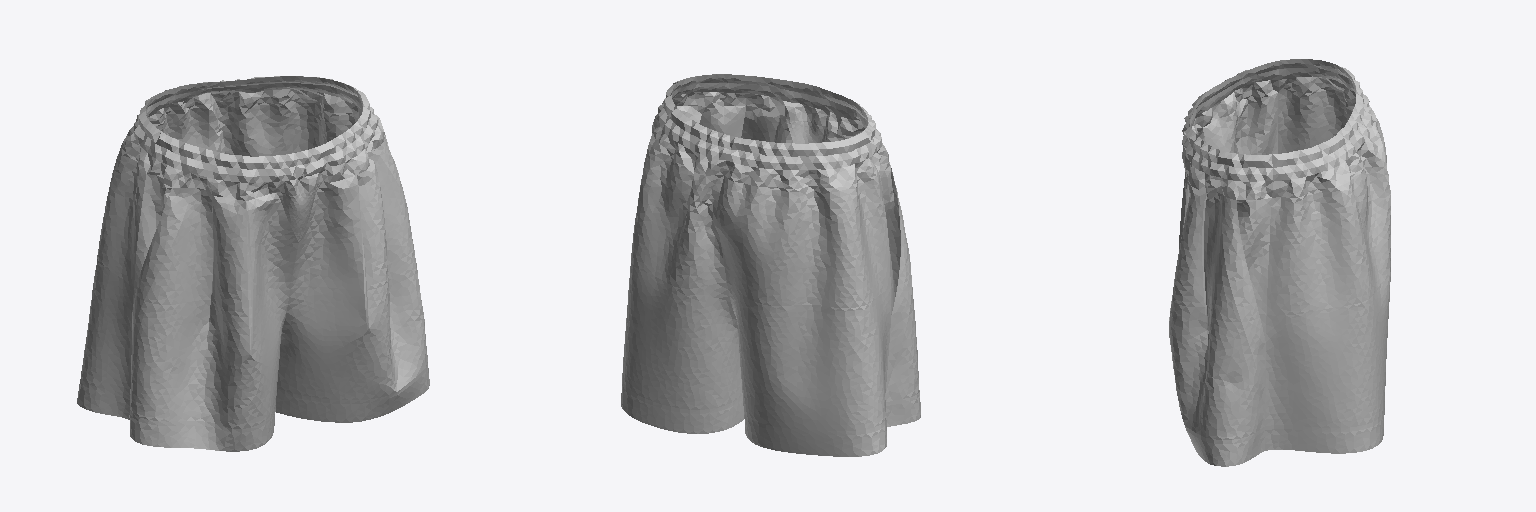
Rendered from Medium_Average.obj.
The picture shows the model from 3 angles: view 1: azimuth 30°, elevation 25°; view 2: azimuth 150°, elevation 25°; view 3: azimuth 270°, elevation 25°; orthographic projection.
Parts seen in each view (by area): view 1: duanku; view 2: duanku; view 3: duanku.
Boxes of the visible parts, box(x1,y1,x2,y2) form: duanku: box(77, 76, 429, 451); duanku: box(621, 74, 920, 456); duanku: box(1169, 59, 1390, 466).
Size of the model in its own units: 0.5007 by 0.5023 by 0.3316.